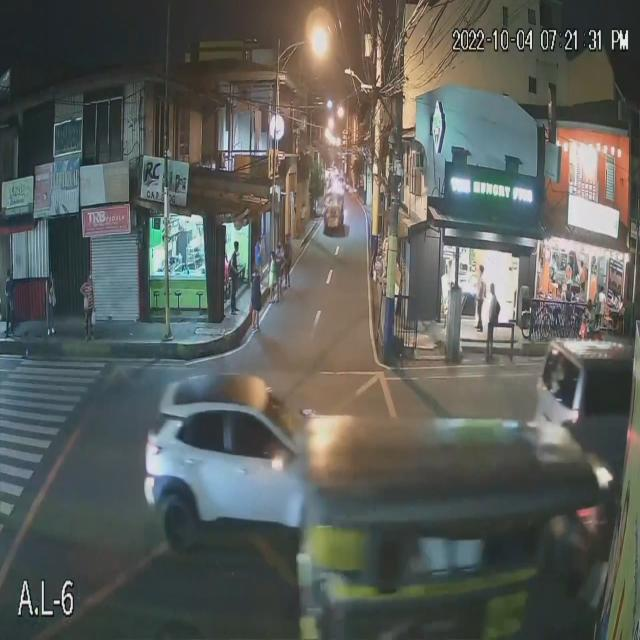Full-Faced: (584, 296, 594, 312)
